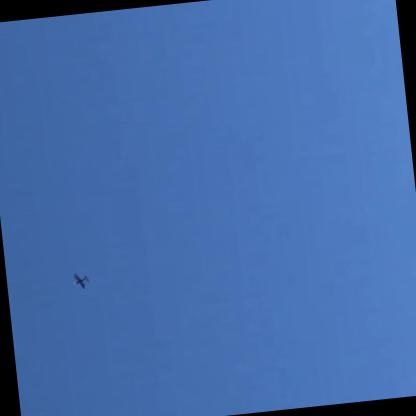plane: (72, 270, 89, 290)
